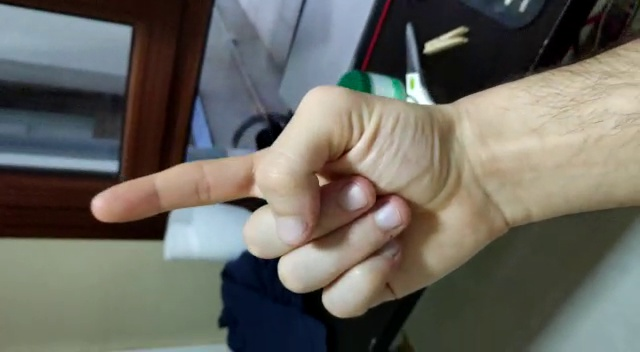One: (70, 107, 483, 289)
